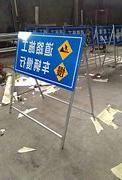sign: (11, 29, 86, 89)
